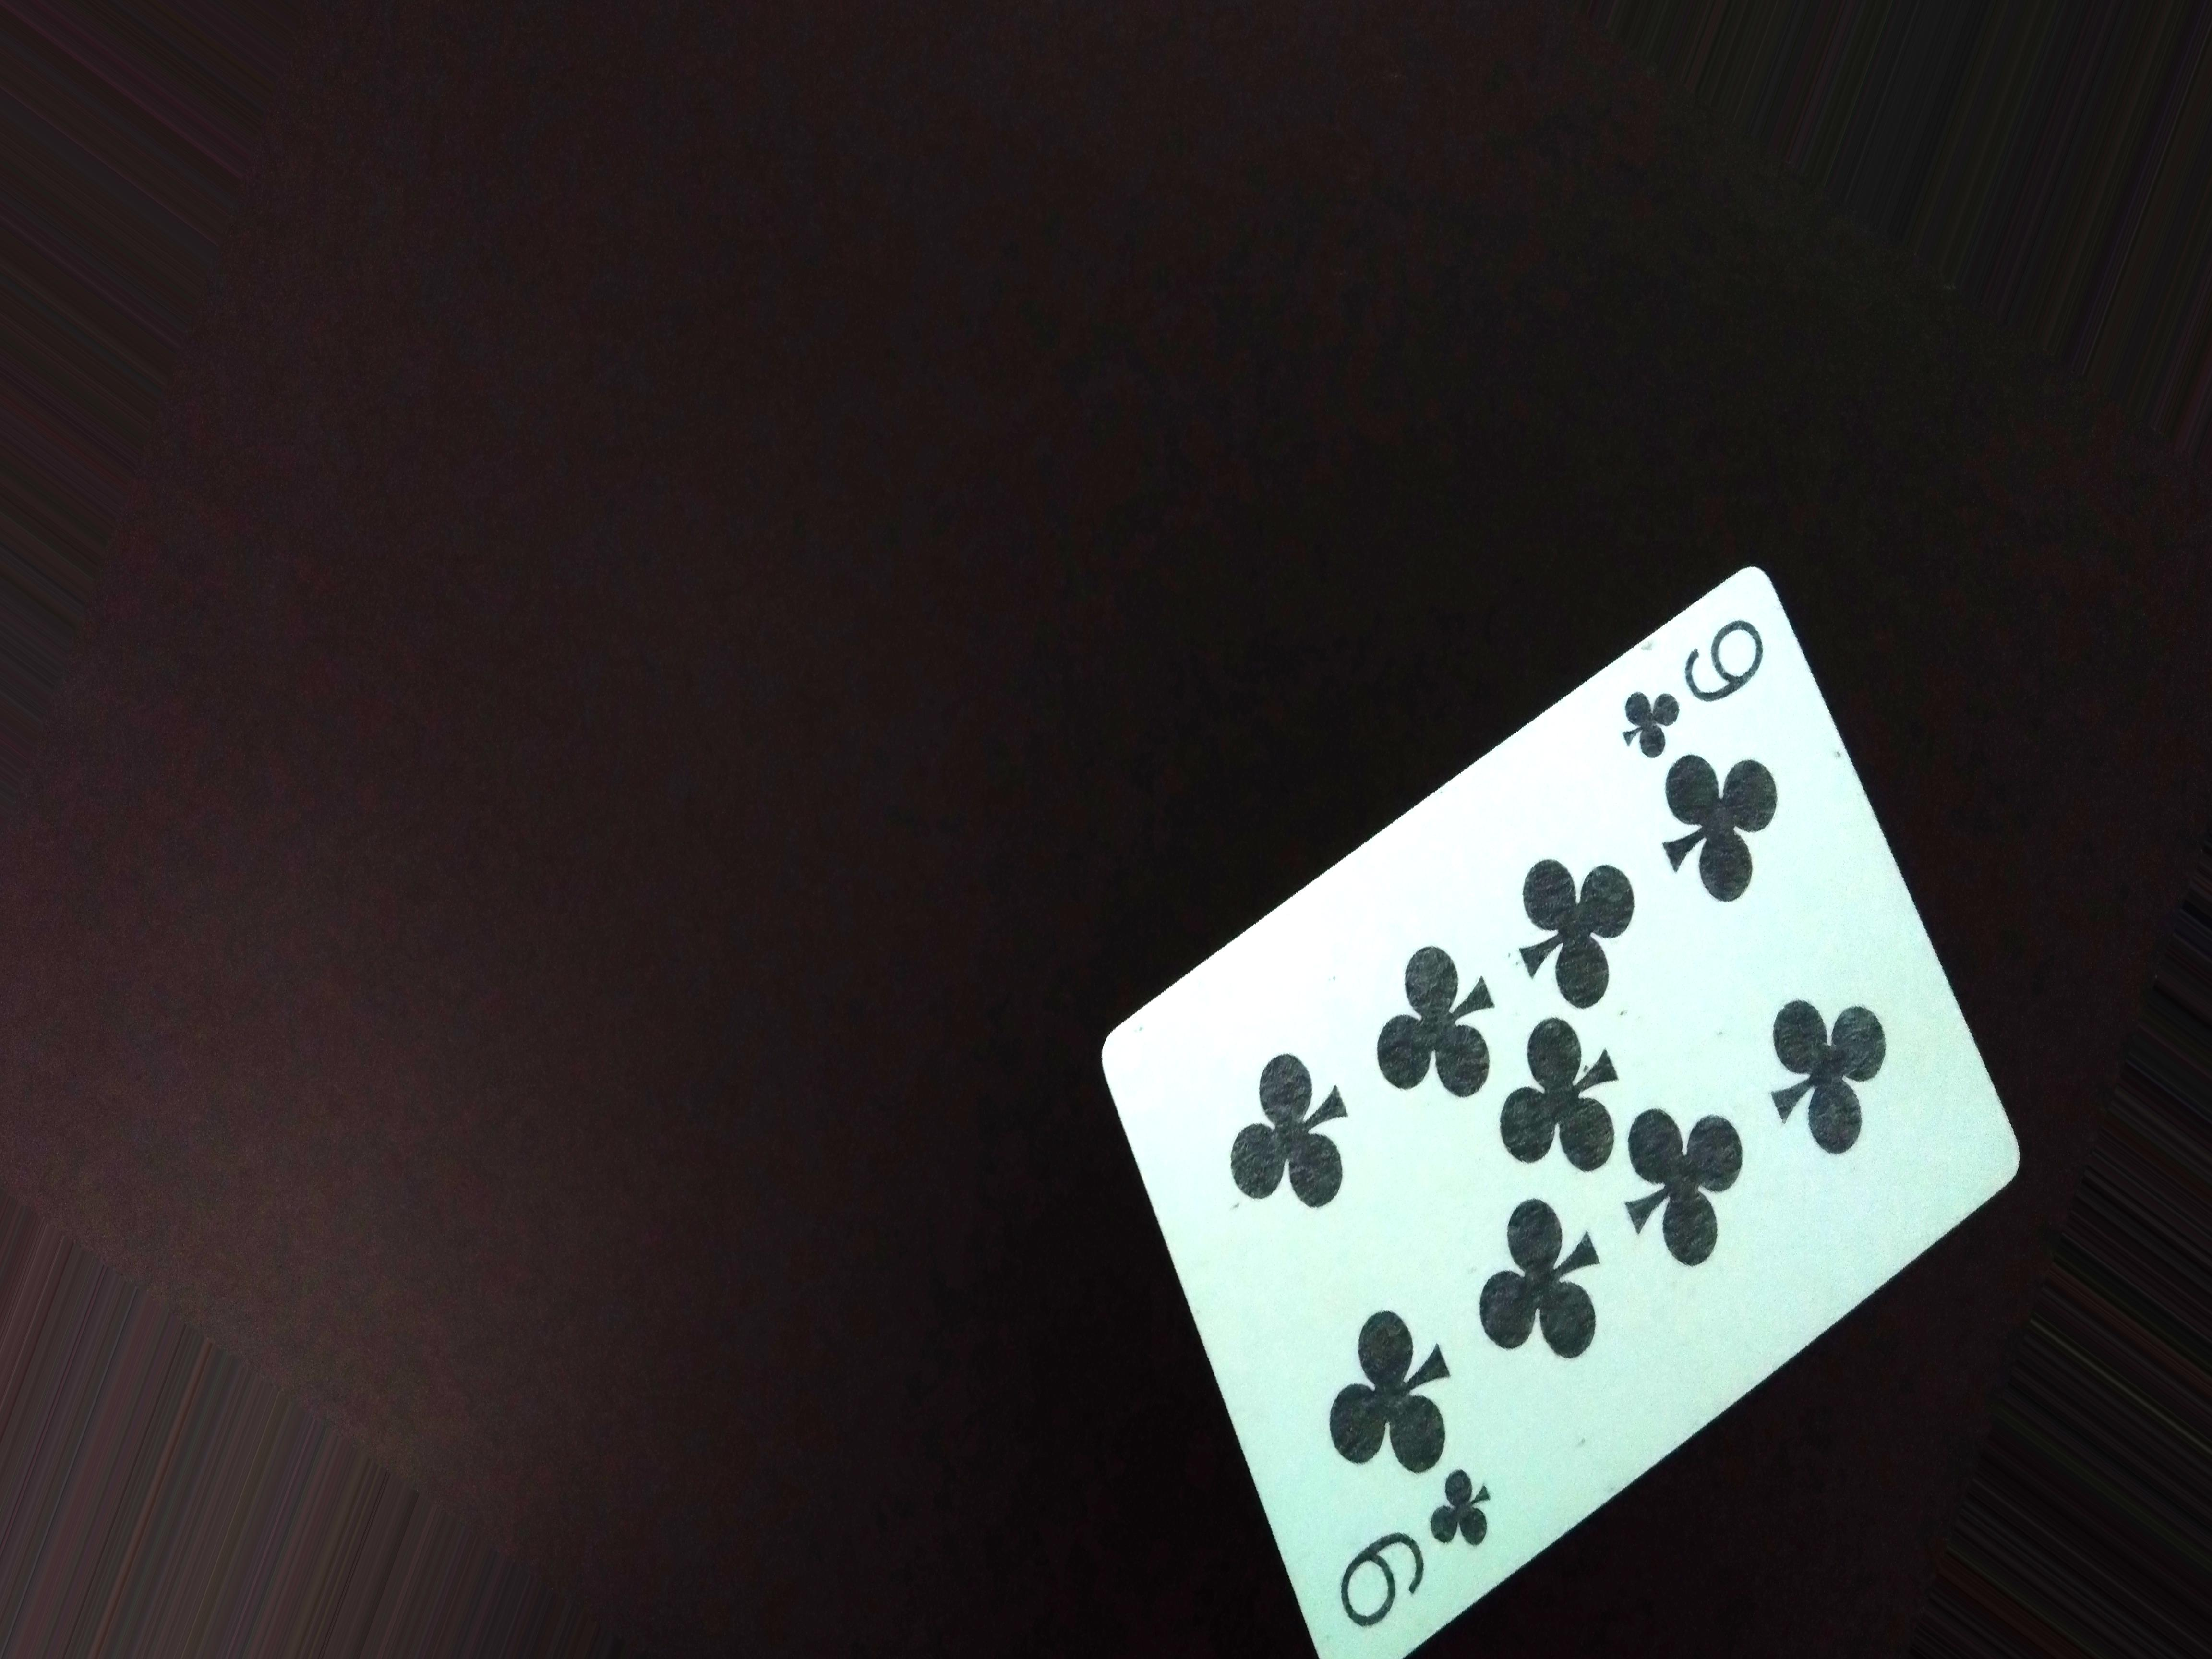9C: (1609, 591, 1792, 769)
